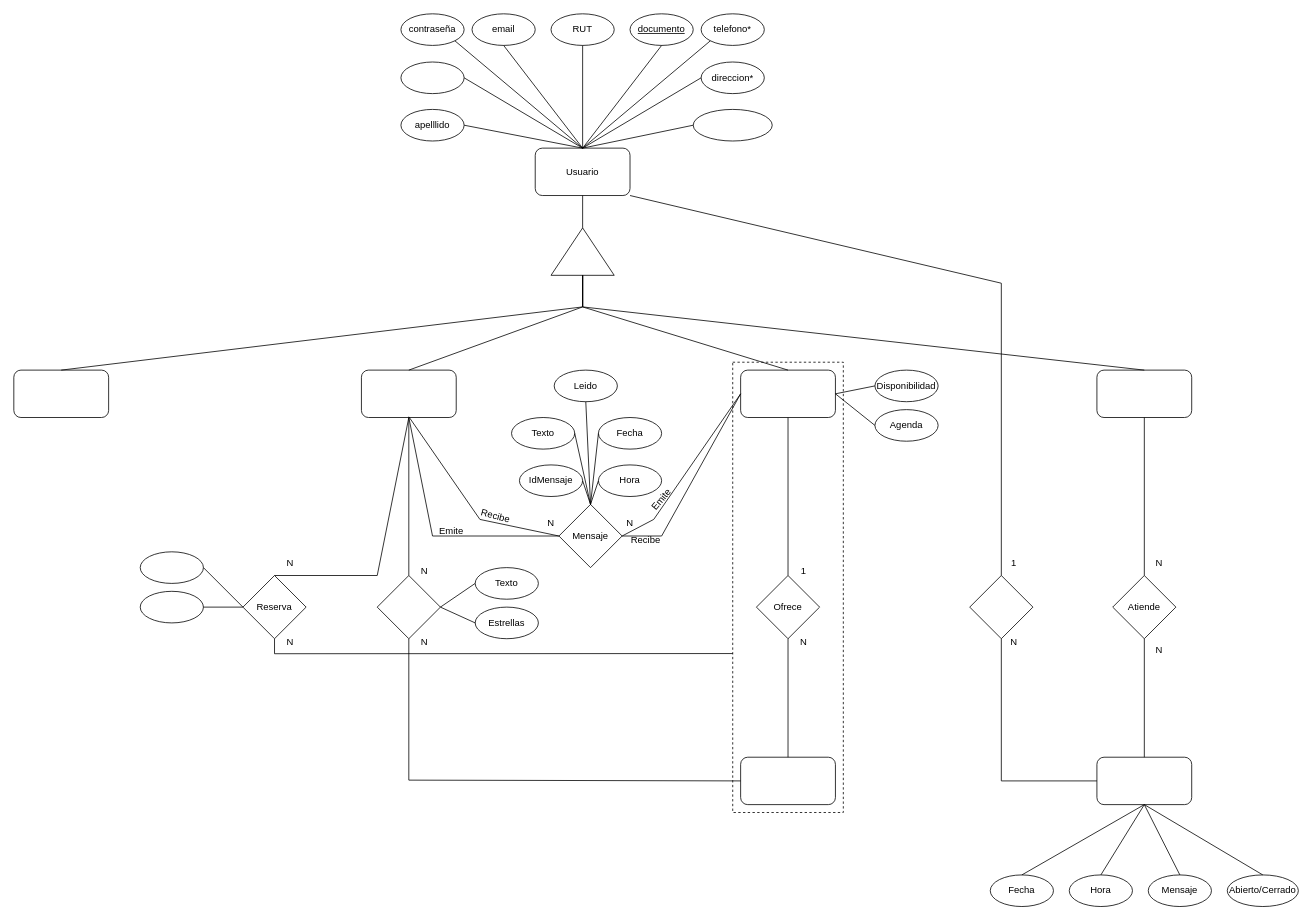
The diagram is 1312 pixels wide and 920 high, and some of its shapes have lost their labels. Here are the shapes that lost their labels. From the top down, the centre of each, then its label:
the point at 432,77: nombre
the point at 732,125: fechaNacimiento
the point at 61,393: Administrador
the point at 408,393: Cliente
the point at 787,393: Provedor
the point at 1144,393: Moderador
the point at 171,567: idServicio
the point at 171,607: fechaServicio
the point at 408,607: Reseña
the point at 1001,607: Crea
the point at 787,780: Publicacion
the point at 1144,780: Ticket
